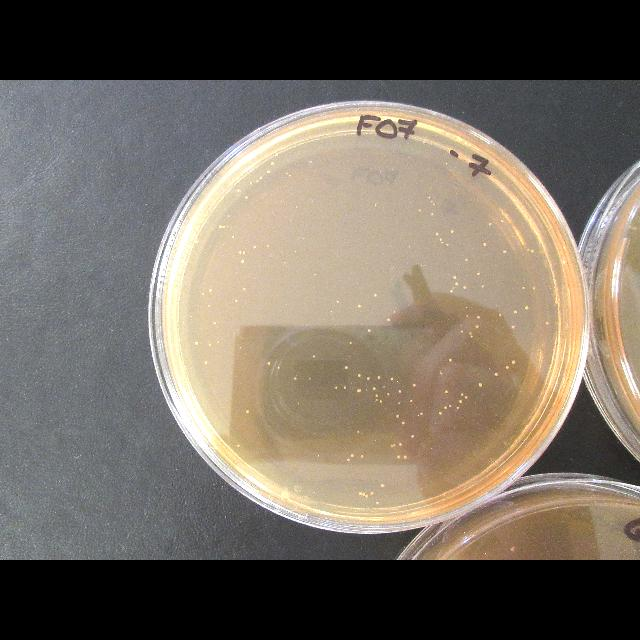colony: (362, 492, 369, 499), (545, 319, 551, 325), (275, 150, 280, 156), (464, 395, 469, 401), (266, 361, 271, 366), (334, 385, 339, 390), (360, 491, 365, 496), (395, 414, 400, 419), (494, 371, 499, 376), (461, 285, 466, 290), (469, 334, 474, 339), (412, 382, 416, 388), (255, 178, 260, 182), (285, 170, 289, 175), (219, 225, 224, 229), (194, 341, 199, 345), (380, 484, 385, 488), (420, 411, 424, 416), (511, 360, 515, 365), (450, 289, 454, 294), (445, 242, 450, 246), (499, 314, 504, 318), (479, 382, 482, 388), (439, 236, 442, 242), (266, 170, 270, 174), (252, 245, 256, 249), (241, 251, 245, 255), (212, 321, 216, 325), (204, 361, 208, 365), (246, 410, 250, 414), (236, 444, 240, 448), (366, 376, 370, 380), (375, 394, 379, 398), (360, 455, 364, 459), (370, 491, 374, 495), (404, 455, 408, 459), (411, 435, 415, 439), (401, 421, 405, 425), (391, 444, 395, 448), (450, 230, 454, 234), (445, 390, 449, 394), (476, 315, 480, 319), (475, 325, 479, 329), (452, 275, 456, 279), (435, 232, 439, 236), (482, 242, 486, 246), (460, 330, 464, 334), (525, 306, 529, 310), (514, 310, 518, 314), (511, 325, 515, 329), (502, 250, 506, 254), (521, 286, 525, 290), (481, 285, 485, 289), (356, 389, 361, 392), (428, 195, 431, 200), (259, 176, 262, 180), (245, 196, 249, 199), (231, 236, 235, 239), (241, 260, 244, 264), (242, 288, 246, 291), (358, 304, 361, 308), (201, 292, 205, 295), (388, 318, 391, 322), (345, 366, 348, 370), (312, 355, 315, 359), (358, 374, 361, 378), (390, 378, 394, 381), (379, 400, 382, 404), (351, 454, 354, 458), (359, 491, 362, 495), (398, 455, 401, 459), (399, 442, 402, 446), (439, 411, 442, 415), (459, 400, 462, 404), (461, 392, 464, 396), (455, 282, 459, 285), (476, 272, 480, 275), (432, 202, 435, 206), (465, 258, 469, 261), (489, 222, 492, 226), (271, 162, 274, 165), (209, 289, 212, 292), (368, 329, 371, 332), (378, 376, 381, 379), (376, 501, 379, 504), (418, 209, 421, 212), (449, 359, 452, 362), (456, 406, 459, 409), (449, 405, 452, 408), (250, 181, 252, 185), (374, 294, 378, 296), (294, 378, 298, 380), (372, 388, 376, 390), (239, 251, 241, 254), (228, 215, 230, 218), (235, 300, 238, 302), (344, 386, 346, 389), (375, 399, 378, 401), (388, 392, 390, 395), (445, 408, 448, 410), (431, 214, 434, 216), (399, 390, 401, 392), (348, 459, 350, 461)
